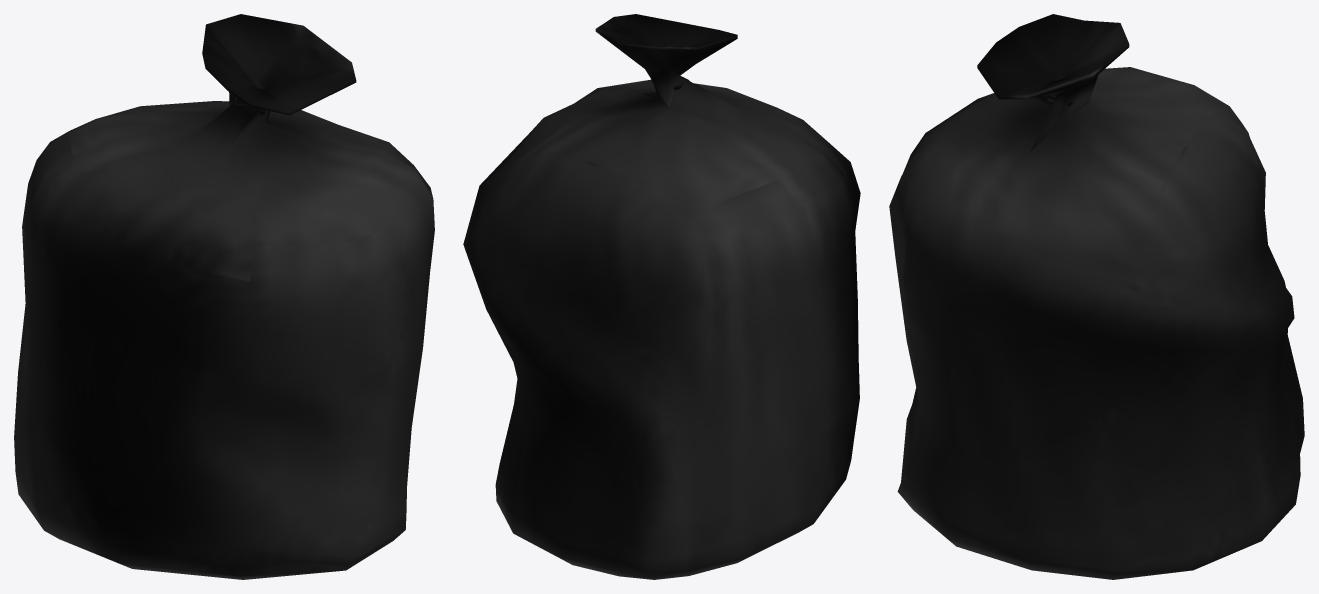
File: Garbage_Bag_04.fbx
The picture shows the model from 3 angles, left to right: view 1: azimuth 30°, elevation 25°; view 2: azimuth 150°, elevation 25°; view 3: azimuth 270°, elevation 25°; orthographic projection. The views are drawn at different scales.
Visible parts, largest first — view 1: Bag_04_low; view 2: Bag_04_low; view 3: Bag_04_low.
Boxes of the visible parts, bbox=[...] form: Bag_04_low: bbox=[14, 14, 434, 579]; Bag_04_low: bbox=[463, 14, 860, 579]; Bag_04_low: bbox=[889, 14, 1304, 579].
Bounding box in the file's own units: 46.27 × 60.18 × 46.34.
Materials: 1 (1 with a texture image).
